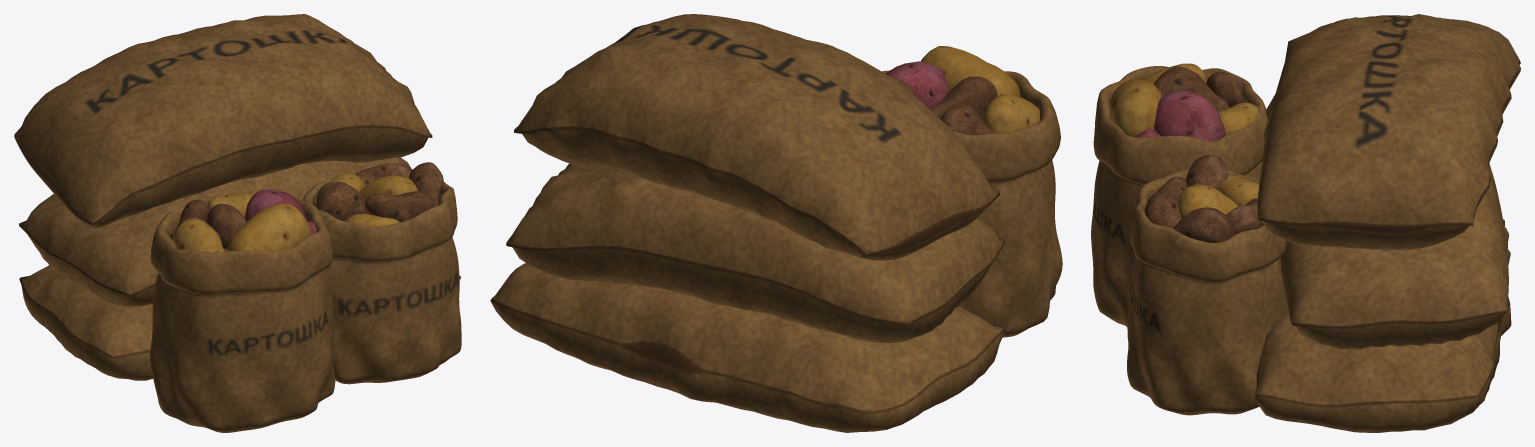
The model's file is potato_sacks.glb.
The picture shows the model from 3 angles, left to right: view 1: azimuth 30°, elevation 25°; view 2: azimuth 150°, elevation 25°; view 3: azimuth 270°, elevation 25°; orthographic projection. The views are drawn at different scales.
Parts seen in each view (by area): view 1: PotatoSacks_Unified_0; view 2: PotatoSacks_Unified_0; view 3: PotatoSacks_Unified_0.
Boxes of the visible parts, x1=… form: PotatoSacks_Unified_0: x1=14, y1=14, x2=461, y2=432; PotatoSacks_Unified_0: x1=490, y1=14, x2=1062, y2=432; PotatoSacks_Unified_0: x1=1091, y1=14, x2=1520, y2=432.
Size of the model in its own units: 1.31 by 0.941 by 1.2.
1 material, 1 textured.
